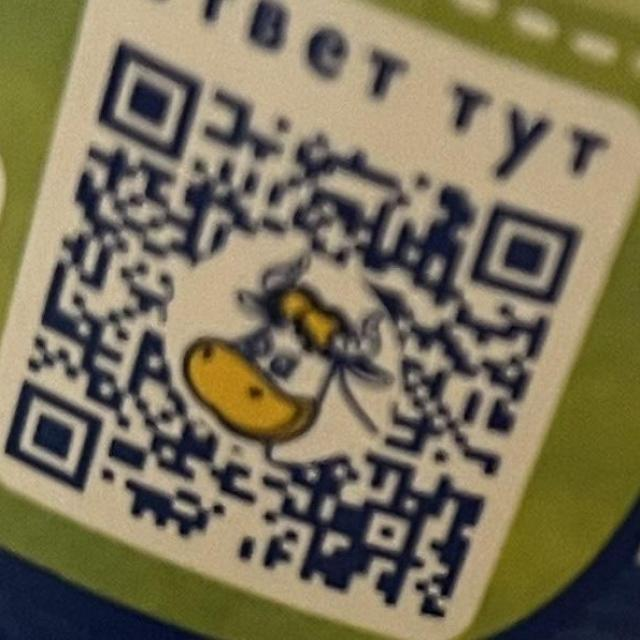QR_CODE: (3, 40, 585, 620)
